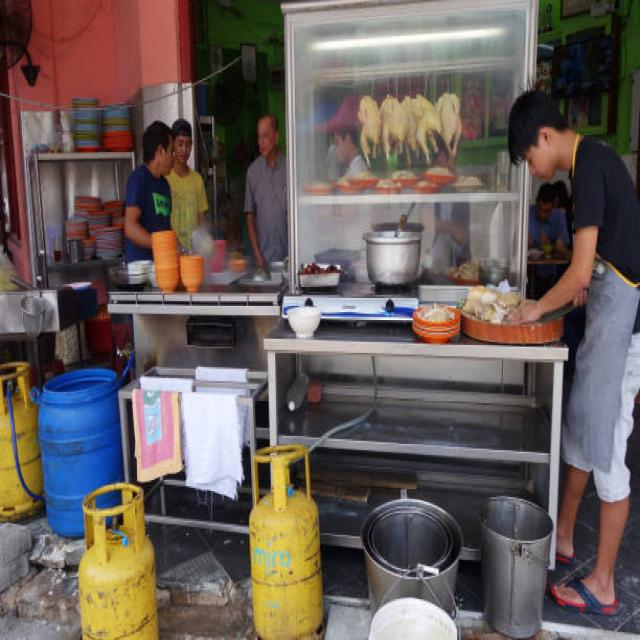Emperan: (239, 0, 640, 634)
